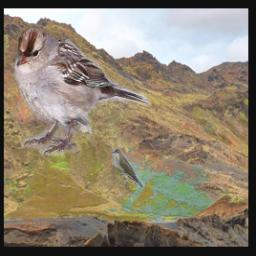Cuckoo: (112, 148, 144, 187)
Sparrow: (11, 27, 151, 156)
